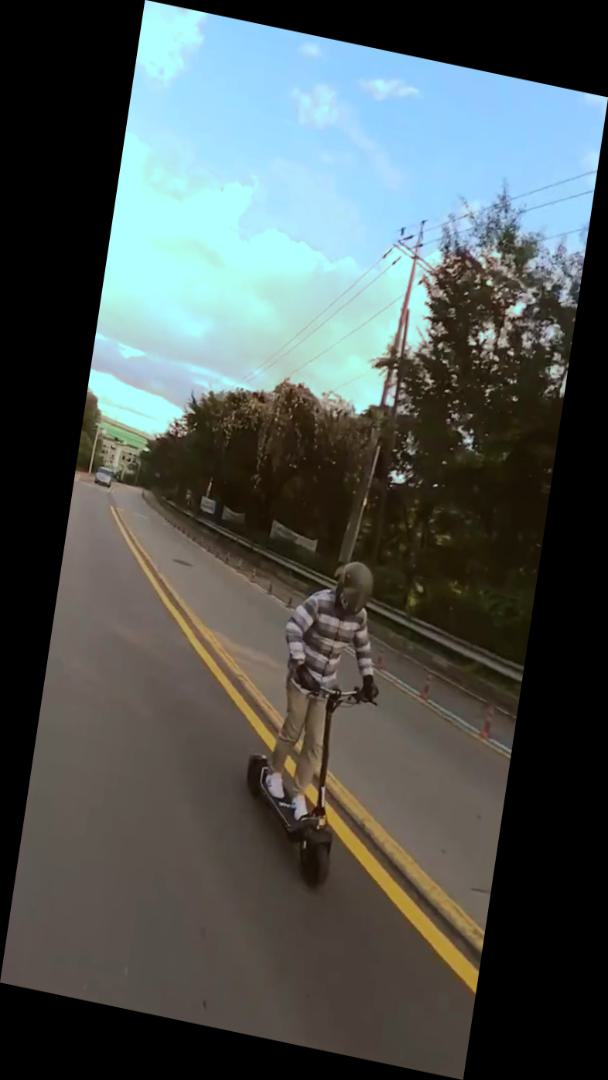helmet: (228, 540, 399, 901)
